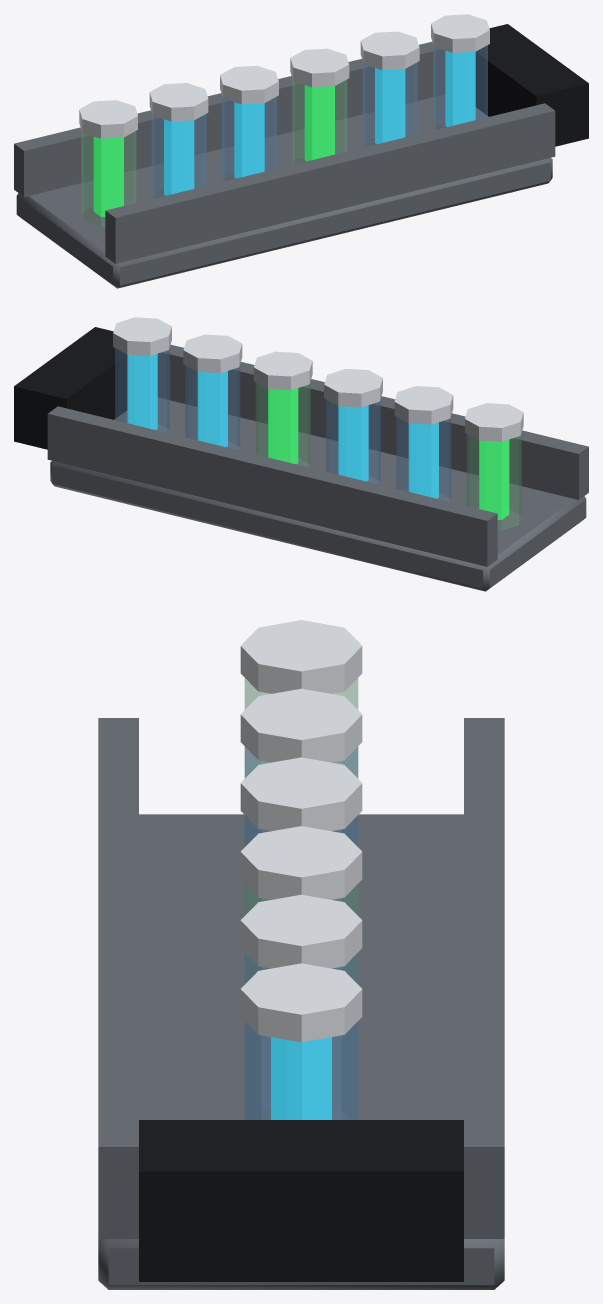
The model's file is capacitor_cell_tray.glb.
3 renders of one model, top to bottom at view 1: azimuth 30°, elevation 25°; view 2: azimuth 150°, elevation 25°; view 3: azimuth 270°, elevation 25°, orthographic. The views are drawn at different scales.
Parts seen in each view (by area): view 1: capacitor_cell_tray; view 2: capacitor_cell_tray; view 3: capacitor_cell_tray.
Part boxes in pixels (<box>): capacitor_cell_tray: <box>14,14,588,288</box>; capacitor_cell_tray: <box>14,317,588,591</box>; capacitor_cell_tray: <box>98,620,504,1289</box>.
Size of the model in its own units: 0.55 by 0.1425 by 0.2.
